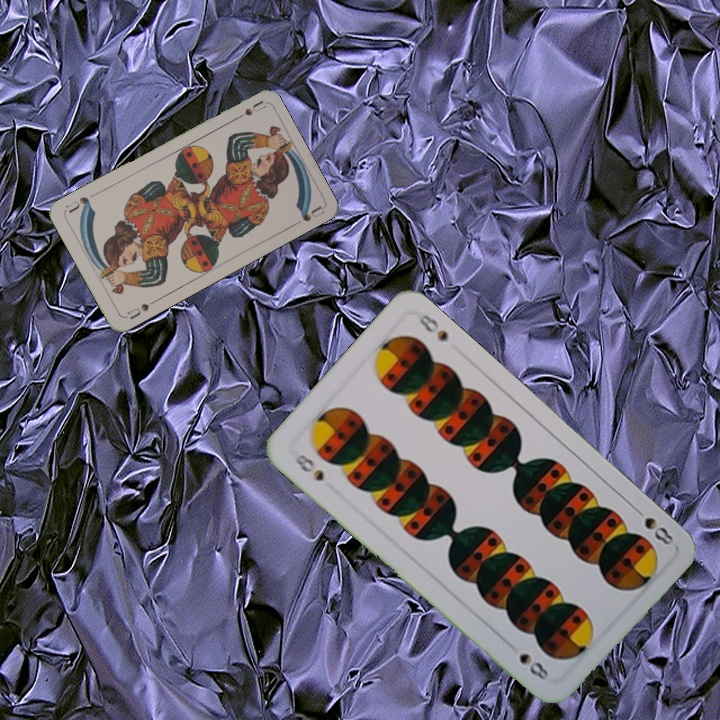S8: (628, 502, 676, 548), (288, 450, 327, 484)
SU: (228, 97, 267, 124), (123, 296, 159, 322)
